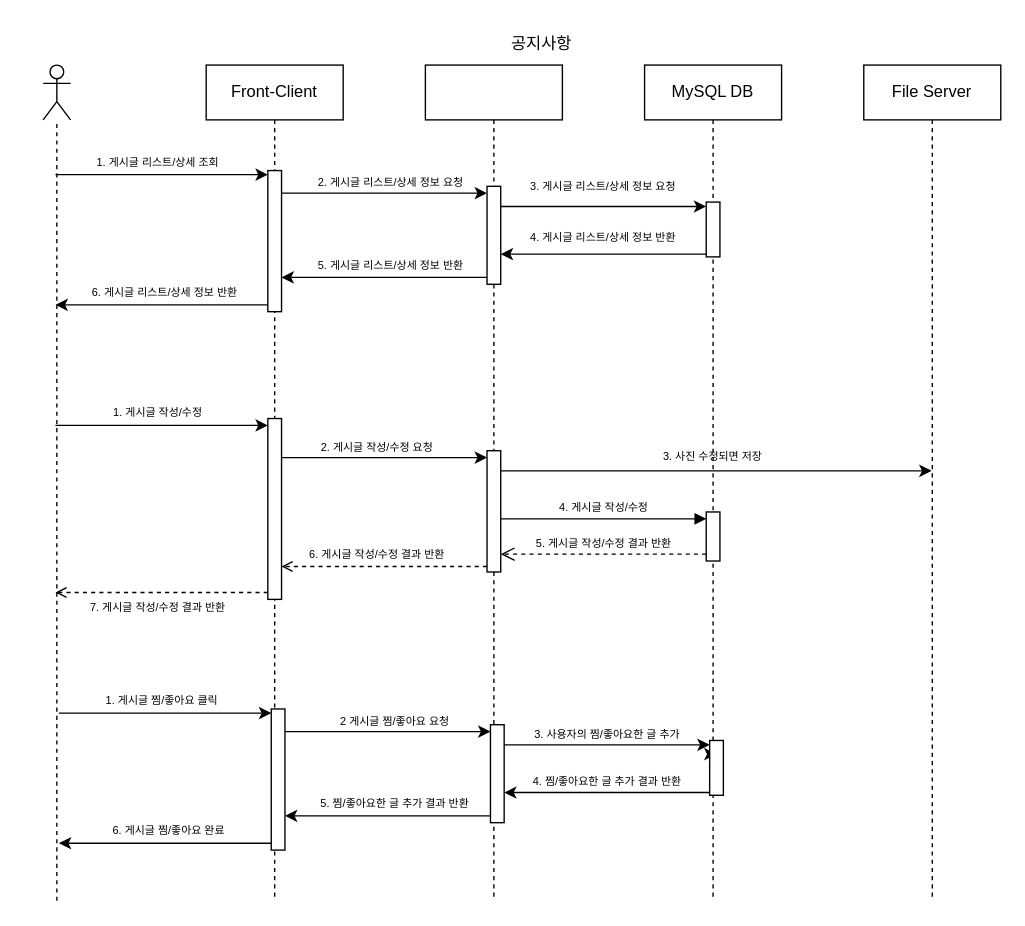
Image size: 1025x926. Some labels were removed from this diagram. Here are the shapes that lost their labels. From the top down, the box of each, then its label:
(42, 64, 71, 120): 일반 유저
(424, 64, 562, 901): Spring-Client
